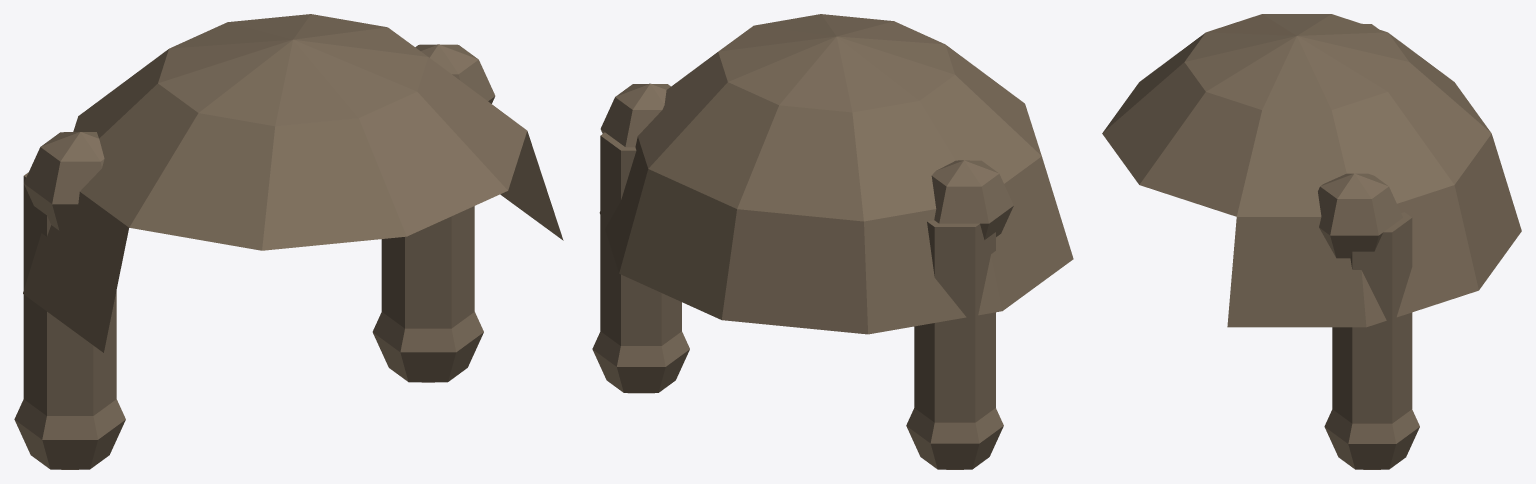
File: pigtails.glb
3 renders of one model, left to right at view 1: azimuth 30°, elevation 25°; view 2: azimuth 150°, elevation 25°; view 3: azimuth 270°, elevation 25°, orthographic. The views are drawn at different scales.
Parts seen in each view (by area): view 1: cap, tail, tail.001, tip.001, tip, sphere, sphere.001; view 2: cap, tail, tail.001, sphere, tip, tip.001, sphere.001; view 3: cap, tail.001, sphere.001, tip.001.
Part boxes in pixels (left/top/right/bottom): cap: left=23, top=14, right=563, bottom=352; tail: left=23, top=172, right=116, bottom=415; tail.001: left=381, top=206, right=474, bottom=328; tip.001: left=372, top=312, right=483, bottom=382; tip: left=14, top=399, right=125, bottom=469; sphere: left=23, top=132, right=104, bottom=230; sphere.001: left=415, top=44, right=495, bottom=103; cap: left=599, top=14, right=1073, bottom=334; tail: left=914, top=220, right=995, bottom=422; tail.001: left=600, top=132, right=681, bottom=345; sphere: left=931, top=160, right=1013, bottom=239; tip: left=906, top=408, right=1003, bottom=469; tip.001: left=592, top=331, right=689, bottom=393; sphere.001: left=600, top=83, right=670, bottom=147; cap: left=1102, top=14, right=1521, bottom=327; tail.001: left=1332, top=212, right=1412, bottom=423; sphere.001: left=1318, top=173, right=1402, bottom=258; tip.001: left=1324, top=409, right=1419, bottom=469.
Bounding box in the file's own units: 0.5136 × 0.447 × 0.4736.
